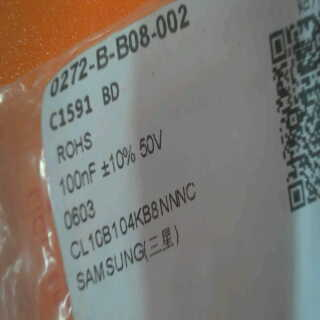100nF: (52, 157, 102, 204)
